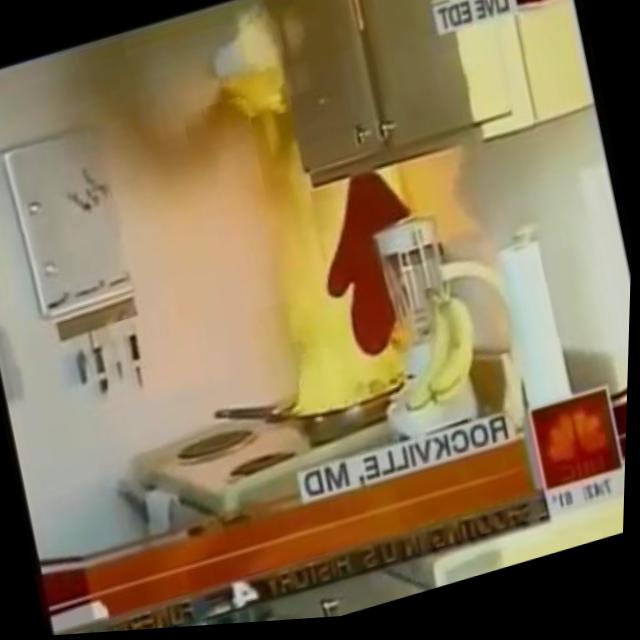fire: (197, 33, 447, 438)
